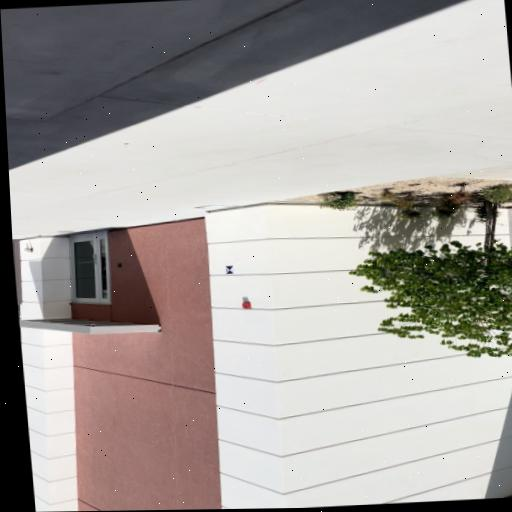target2: (224, 265, 233, 273)
